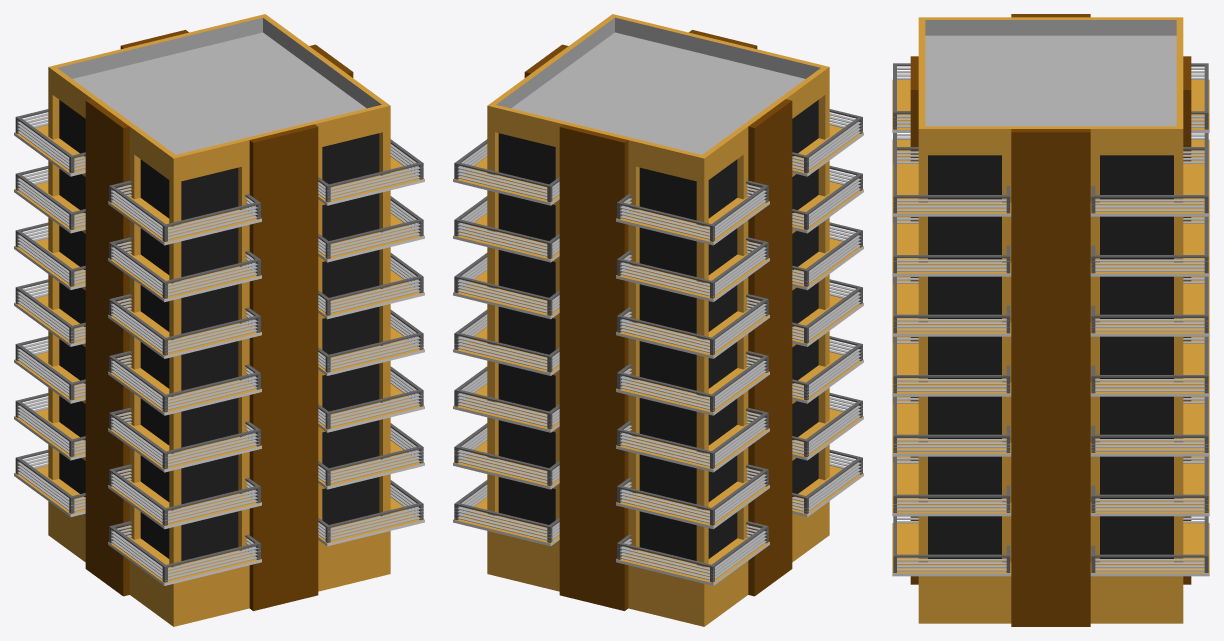
The model's file is 06 Apartment.fbx.
The picture shows the model from 3 angles, left to right: view 1: azimuth 30°, elevation 25°; view 2: azimuth 150°, elevation 25°; view 3: azimuth 270°, elevation 25°; orthographic projection. The views are drawn at different scales.
Visible parts, largest first — view 1: Apartment; view 2: Apartment; view 3: Apartment.
Boxes of the visible parts, x1,y1,x2,y2 form: Apartment: (14,14,424,626); Apartment: (453,14,863,626); Apartment: (892,14,1209,626).
Size of the model in its own units: 242 by 416 by 242.
